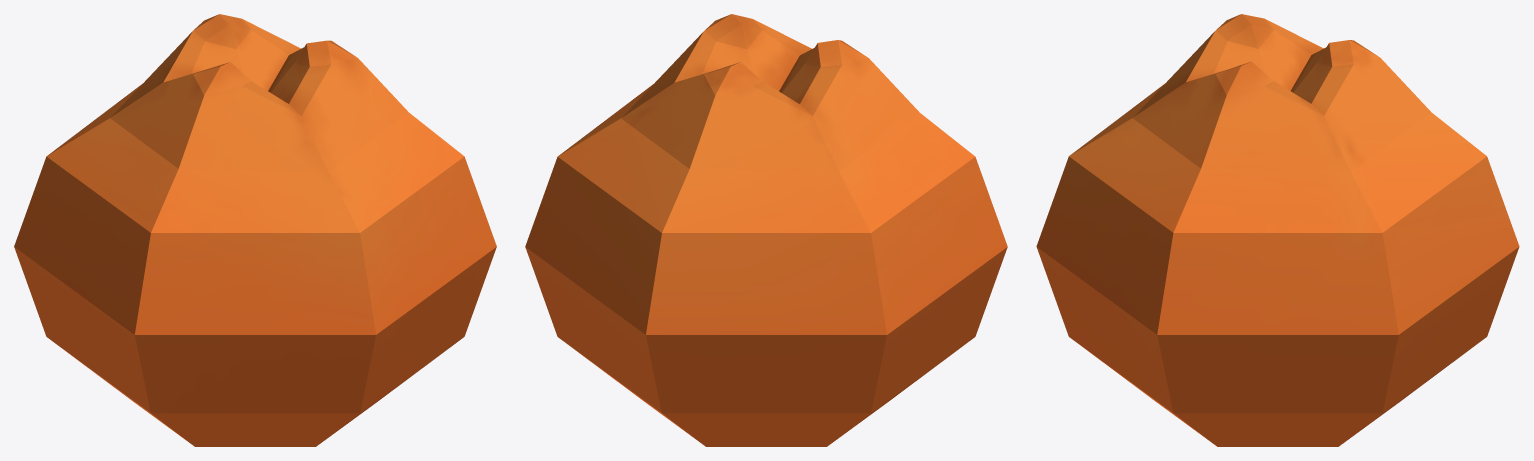
The model's file is Foods_KwekKwek.fbx.
3 views of the same model, side by side, from view 1: azimuth 30°, elevation 25°; view 2: azimuth 150°, elevation 25°; view 3: azimuth 270°, elevation 25° (orthographic).
Parts seen in each view (by area): view 1: KwekKwek; view 2: KwekKwek; view 3: KwekKwek.
Part boxes in pixels (left/top/right/bottom): KwekKwek: left=14, top=14, right=496, bottom=446; KwekKwek: left=525, top=14, right=1007, bottom=446; KwekKwek: left=1036, top=14, right=1519, bottom=446.
Bounding box in the file's own units: 142 × 164 × 145.
1 material, 1 textured.
